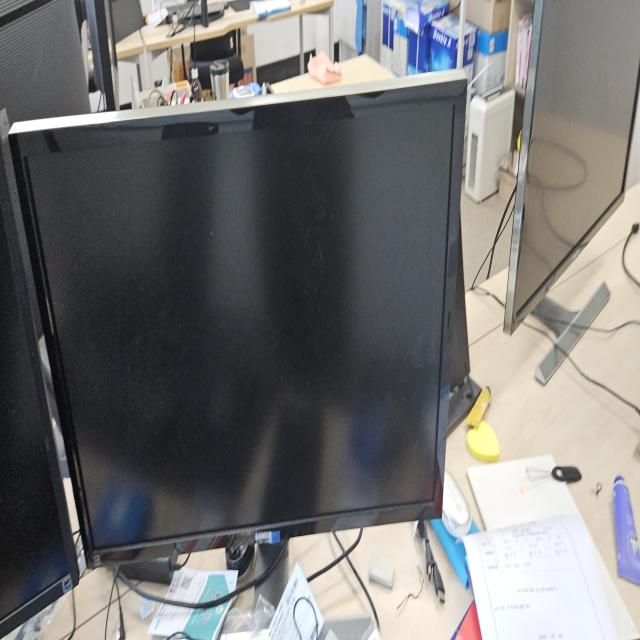Monitor: (7, 66, 473, 583)
